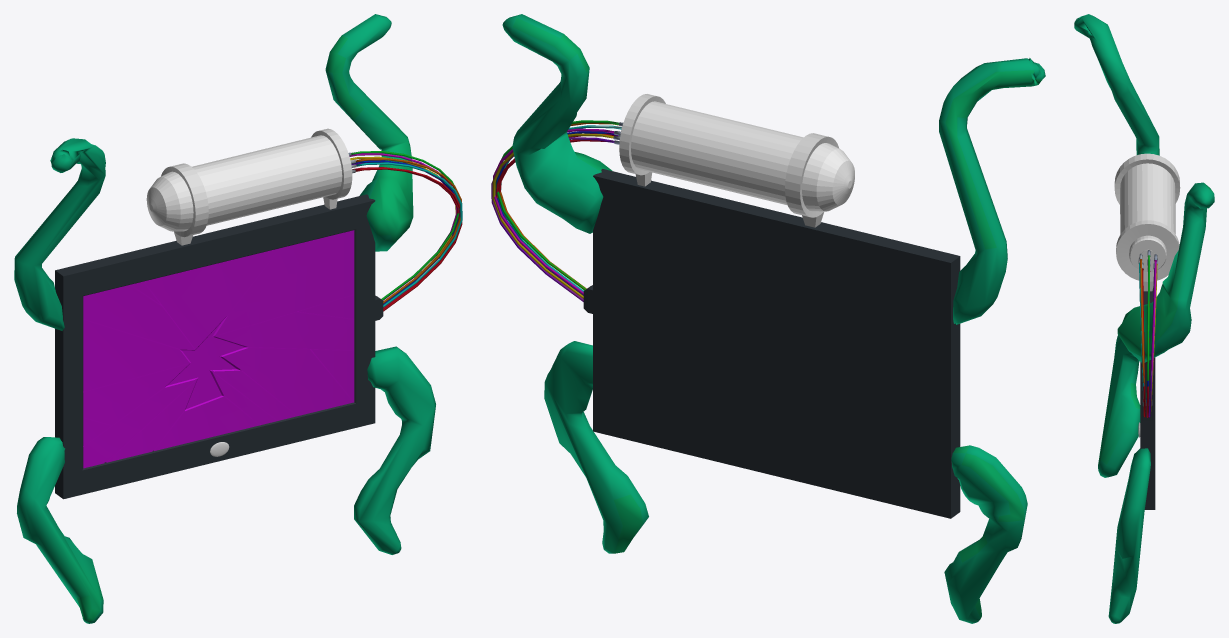
Rendered from iPOD PAD.fbx.
3 renders of one model, left to right at view 1: azimuth 30°, elevation 25°; view 2: azimuth 150°, elevation 25°; view 3: azimuth 270°, elevation 25°, orthographic. The views are drawn at different scales.
Parts seen in each view (by area): view 1: Cube.003, BezierCurve.011, Cylinder, Cylinder.001, Cylinder.002, BezierCurve.007, BezierCurve.010, BezierCurve.004, BezierCurve.005; view 2: Cube.003, BezierCurve.011, Cylinder, Cylinder.001, Cylinder.002, BezierCurve.008; view 3: BezierCurve.011, Cylinder, Cylinder.002, Cube.003, Cylinder.001, BezierCurve.010, BezierCurve.005, BezierCurve.009, BezierCurve.004, BezierCurve.002, BezierCurve.007.
Part boxes in pixels (left/top/right/bottom): Cube.003: left=55, top=194, right=383, bottom=499; BezierCurve.011: left=14, top=14, right=435, bottom=623; Cylinder: left=146, top=135, right=342, bottom=231; Cylinder.001: left=161, top=163, right=208, bottom=245; Cylinder.002: left=311, top=128, right=352, bottom=209; BezierCurve.007: left=351, top=162, right=462, bottom=307; BezierCurve.010: left=350, top=158, right=461, bottom=303; BezierCurve.004: left=352, top=167, right=462, bottom=311; BezierCurve.005: left=348, top=151, right=459, bottom=300; Cube.003: left=583, top=169, right=960, bottom=518; BezierCurve.011: left=502, top=14, right=1045, bottom=623; Cylinder: left=631, top=101, right=854, bottom=211; Cylinder.001: left=785, top=133, right=839, bottom=227; Cylinder.002: left=619, top=94, right=665, bottom=186; BezierCurve.008: left=492, top=133, right=619, bottom=298; BezierCurve.011: left=1074, top=14, right=1214, bottom=623; Cylinder: left=1120, top=163, right=1175, bottom=234; Cylinder.002: left=1116, top=220, right=1179, bottom=291; Cube.003: left=1140, top=286, right=1155, bottom=509; Cylinder.001: left=1114, top=153, right=1180, bottom=204; BezierCurve.010: left=1139, top=253, right=1145, bottom=409; BezierCurve.005: left=1146, top=250, right=1150, bottom=397; BezierCurve.009: left=1151, top=254, right=1157, bottom=372; BezierCurve.004: left=1142, top=262, right=1145, bottom=417; BezierCurve.002: left=1148, top=262, right=1154, bottom=417; BezierCurve.007: left=1138, top=257, right=1144, bottom=406.
Bounding box in the file's own units: 324 × 343 × 95.95.
